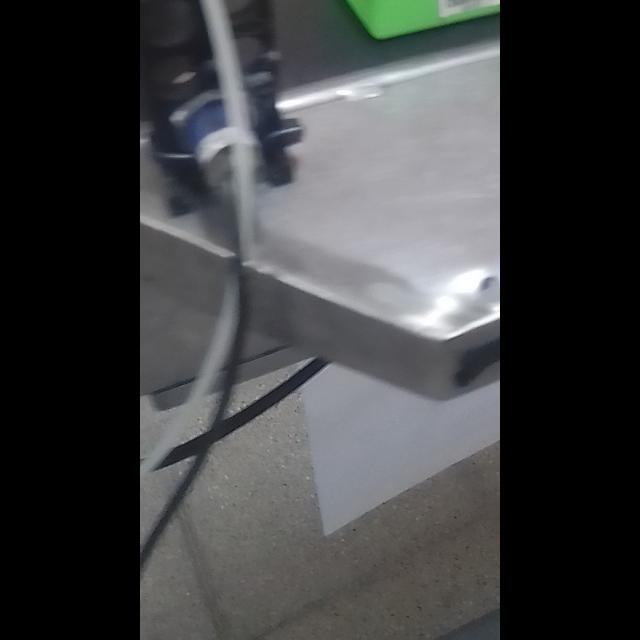greenBox: (306, 0, 499, 48)
